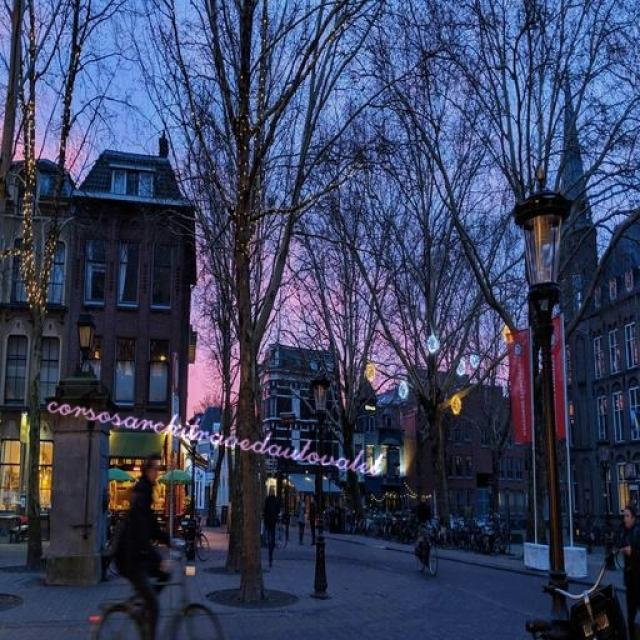watermark: (38, 386, 400, 480)
